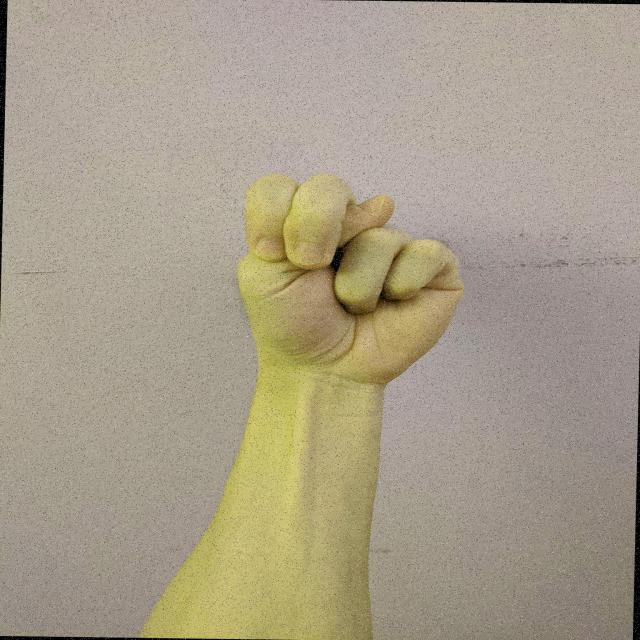N: (229, 168, 472, 392)
